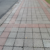zebra: (1, 2, 43, 48)
